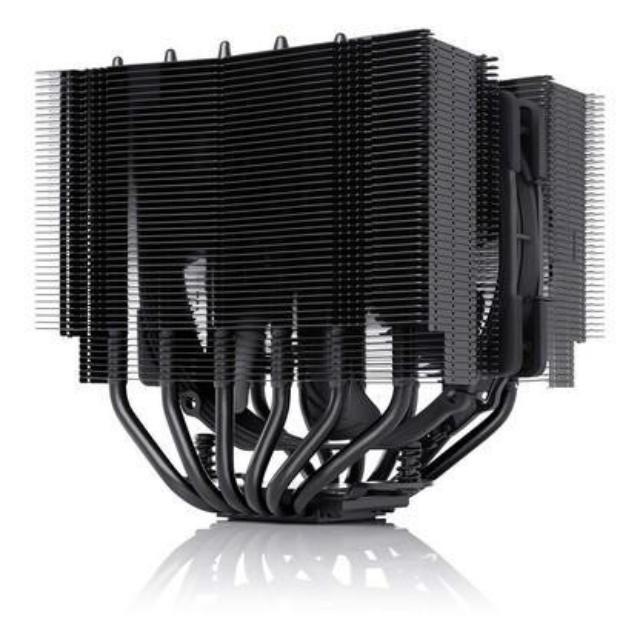CPU_Fan: (15, 19, 620, 547)
